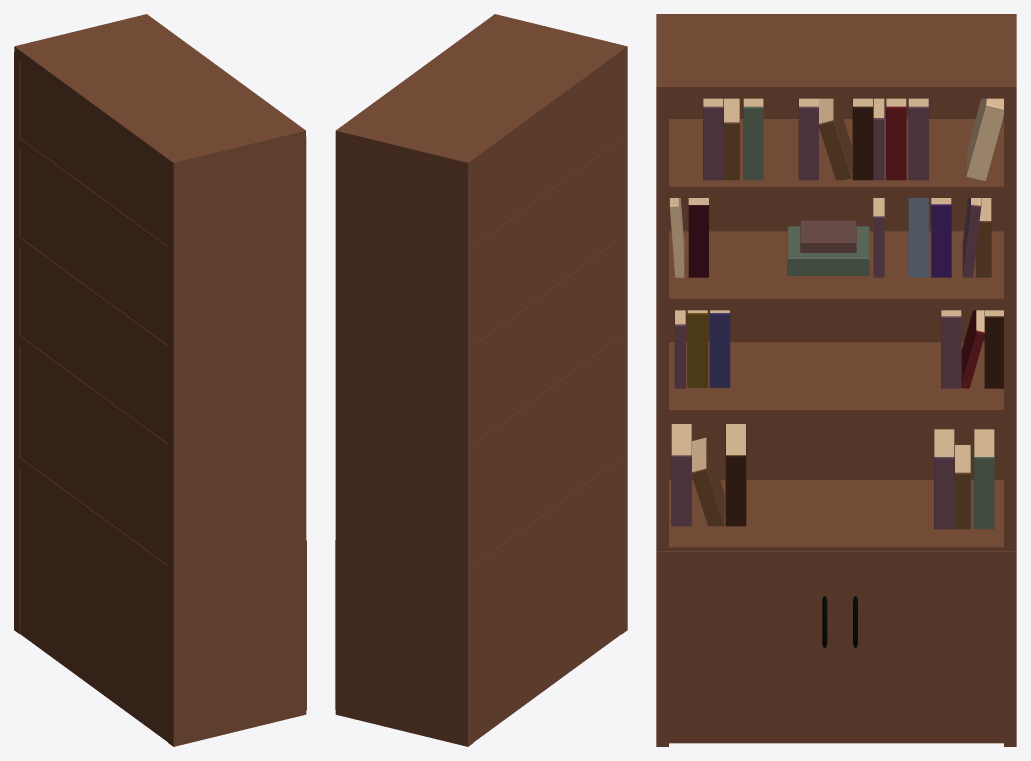
The model's file is Schrank_mit_Buechern.fbx.
3 views of the same model, side by side, from view 1: azimuth 30°, elevation 25°; view 2: azimuth 150°, elevation 25°; view 3: azimuth 270°, elevation 25° (orthographic). The views are drawn at different scales.
Parts seen in each view (by area): view 1: Schrank; view 2: Schrank; view 3: Schrank, BücherA, BücherB, BücherC, BücherD.
Part boxes in pixels (x1=…): Schrank: x1=14, y1=14, x2=306, y2=746; Schrank: x1=335, y1=14, x2=627, y2=746; Schrank: x1=656, y1=14, x2=1016, y2=746; BücherA: x1=703, y1=98, x2=1003, y2=180; BücherB: x1=669, y1=198, x2=991, y2=277; BücherC: x1=671, y1=424, x2=994, y2=529; BücherD: x1=674, y1=310, x2=1003, y2=388.
Size of the model in its own units: 58.14 by 237 by 117.
